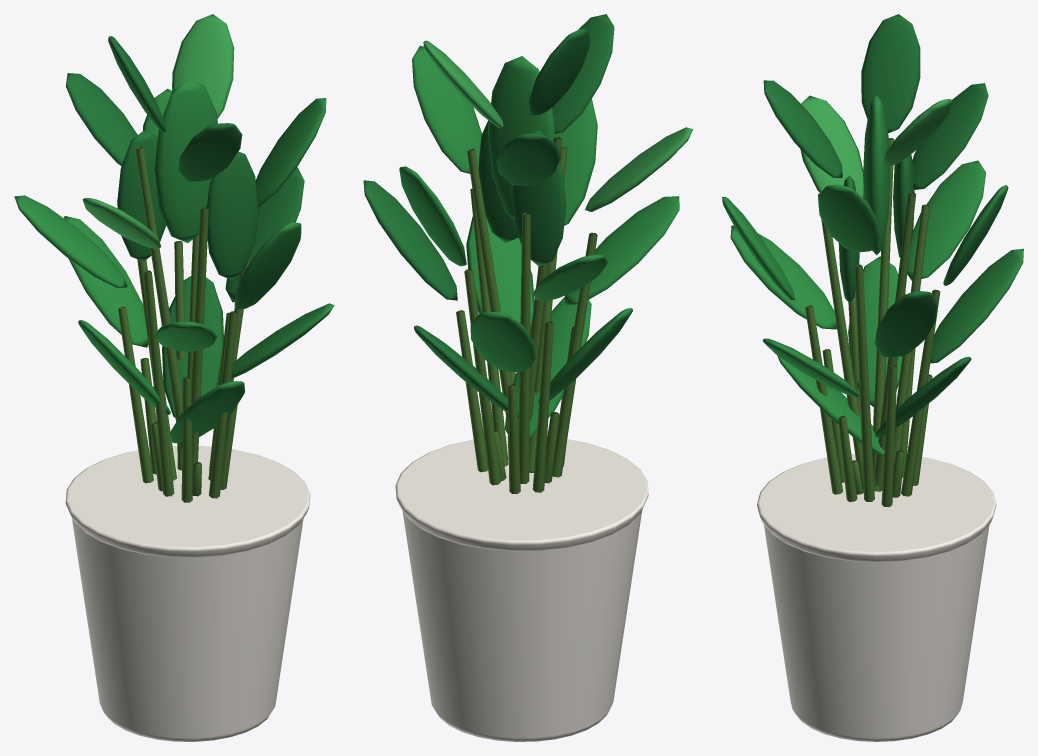
File: plant.glb
3 views of the same model, side by side, from view 1: azimuth 30°, elevation 25°; view 2: azimuth 150°, elevation 25°; view 3: azimuth 270°, elevation 25° (orthographic). The views are drawn at different scales.
Parts seen in each view (by area): view 1: Cone, Sphere, Sphere.001, Cone.003, Sphere.010; view 2: Cone, Sphere, Sphere.001, Cone.003, Sphere.010; view 3: Cone, Sphere, Sphere.001, Cone.003, Sphere.010.
Part boxes in pixels (<box>): Cone: <box>65,446,310,741</box>; Sphere: <box>14,79,334,443</box>; Sphere.001: <box>66,36,304,417</box>; Cone.003: <box>118,147,251,502</box>; Sphere.010: <box>82,14,234,248</box>; Cone: <box>395,436,648,741</box>; Sphere: <box>399,46,679,437</box>; Sphere.001: <box>363,14,614,418</box>; Cone.003: <box>456,136,597,493</box>; Sphere.010: <box>423,40,693,211</box>; Cone: <box>757,454,996,741</box>; Sphere: <box>722,95,1023,455</box>; Sphere.001: <box>763,14,988,437</box>; Cone.003: <box>805,138,940,507</box>; Sphere.010: <box>800,95,952,198</box>.
Bounding box in the file's own units: 0.4353 × 1.08 × 0.4436.
